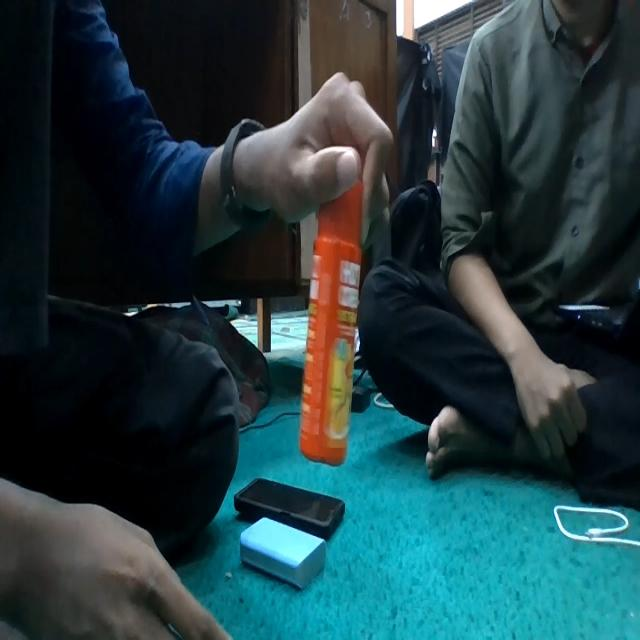Boncabe: (300, 184, 361, 465)
Powerbank: (240, 517, 326, 589)
